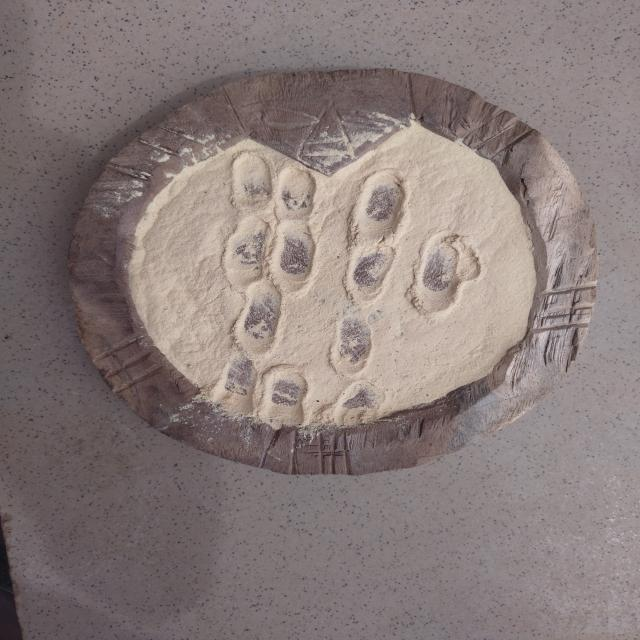double: (341, 234, 479, 317), (223, 218, 314, 294), (212, 360, 312, 428), (233, 152, 322, 227)
single: (232, 274, 287, 365), (348, 168, 409, 243), (330, 311, 374, 378), (333, 378, 386, 430)
